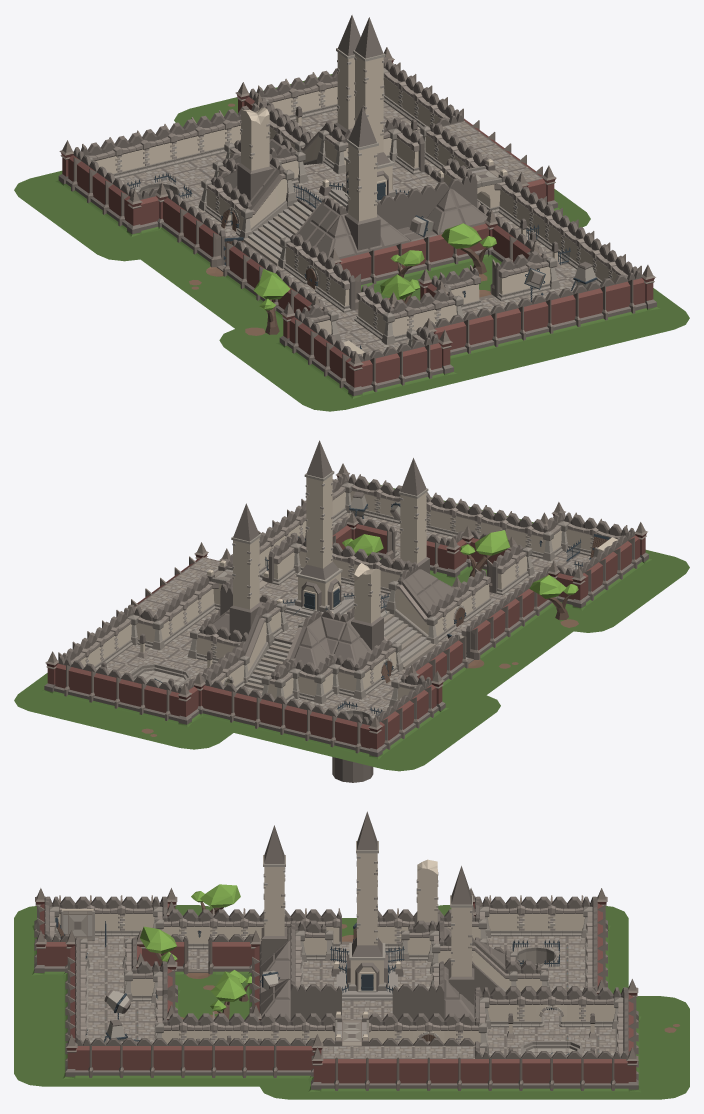
The model's file is medieval_labyrinth.glb.
The picture shows the model from 3 angles, top to bottom: view 1: azimuth 30°, elevation 25°; view 2: azimuth 150°, elevation 25°; view 3: azimuth 270°, elevation 25°; orthographic projection. The views are drawn at different scales.
Parts seen in each view (by area): view 1: Palette; view 2: Palette; view 3: Palette.
Part boxes in pixels (<box>): Palette: <box>14,15,689,411</box>; Palette: <box>14,440,689,782</box>; Palette: <box>14,811,689,1099</box>.
Bounding box in the file's own units: 48.65 × 30.54 × 71.35.
1 material, 1 textured.
